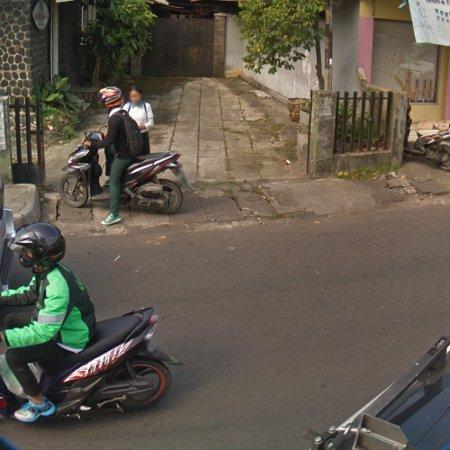motorcycles: (29, 308, 180, 417), (121, 151, 190, 213), (60, 131, 109, 207), (0, 355, 28, 418)
